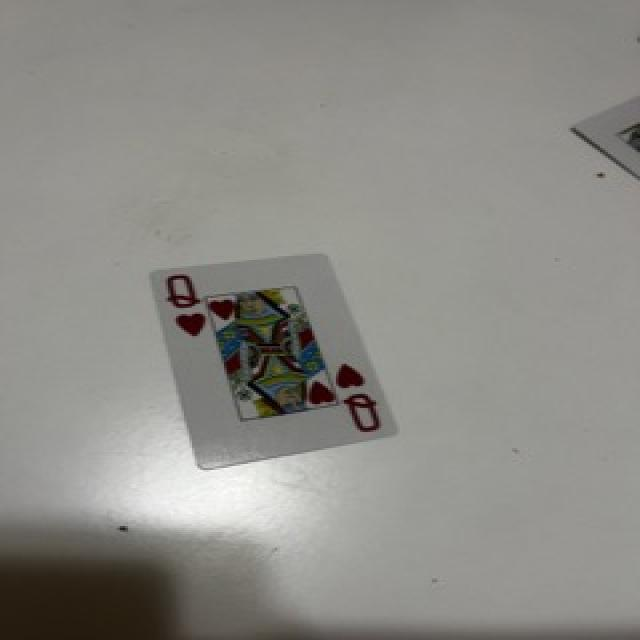Queen of hearts: (152, 255, 397, 469)
